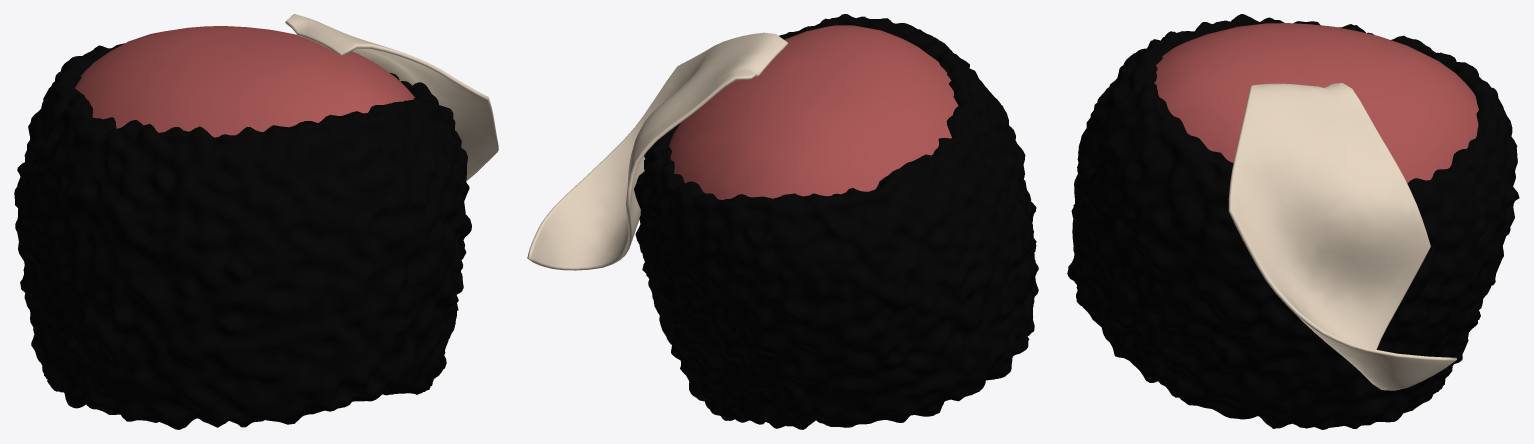
The model's file is COSSACK_CAP_4#10.glb.
3 views of the same model, side by side, from view 1: azimuth 30°, elevation 25°; view 2: azimuth 150°, elevation 25°; view 3: azimuth 270°, elevation 25° (orthographic). The views are drawn at different scales.
Visible parts, largest first — view 1: казак_шапка_4_ур_поза_выставленная; view 2: казак_шапка_4_ур_поза_выставленная; view 3: казак_шапка_4_ур_поза_выставленная.
Part boxes in pixels (x1=…): казак_шапка_4_ур_поза_выставленная: x1=14, y1=14, x2=498, y2=429; казак_шапка_4_ур_поза_выставленная: x1=527, y1=14, x2=1038, y2=429; казак_шапка_4_ур_поза_выставленная: x1=1067, y1=14, x2=1519, y2=429.
Bounding box in the file's own units: 1.58 × 1.17 × 1.42.
